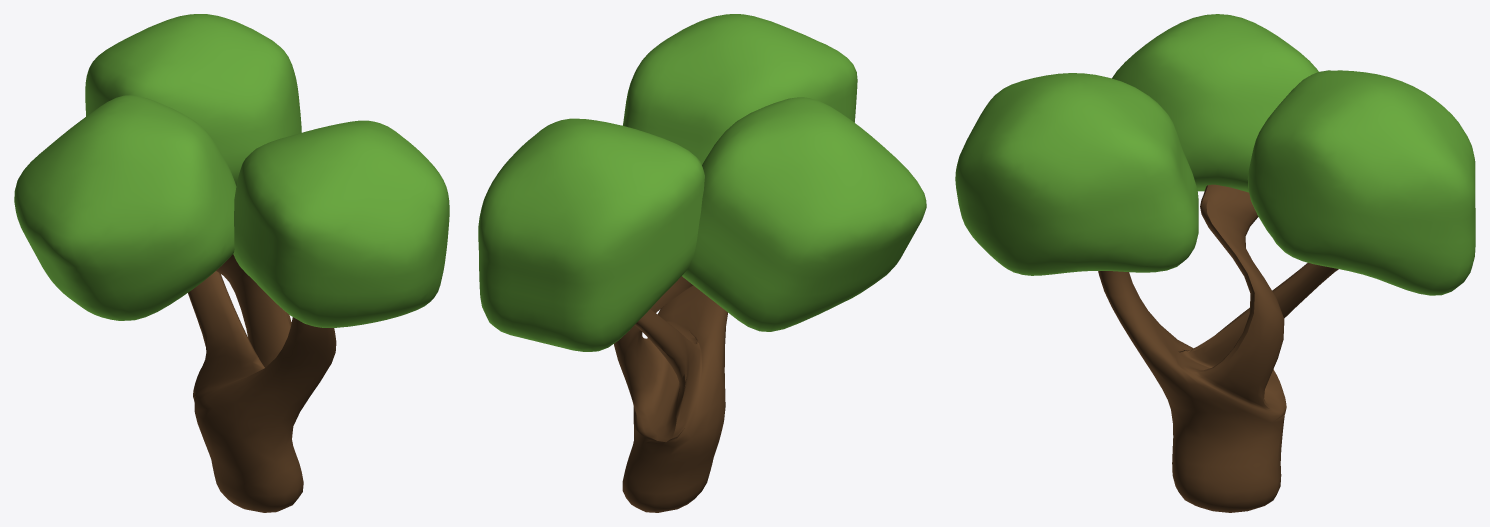
Rendered from Tree 3.fbx.
The picture shows the model from 3 angles, left to right: view 1: azimuth 30°, elevation 25°; view 2: azimuth 150°, elevation 25°; view 3: azimuth 270°, elevation 25°; orthographic projection. The views are drawn at different scales.
Parts seen in each view (by area): view 1: Cube; view 2: Cube; view 3: Cube.
Boxes of the visible parts, x1,y1,x2,y2 form: Cube: (14,14,449,512); Cube: (478,14,926,512); Cube: (955,14,1475,512).
Size of the model in its own units: 520 by 638 by 711.
